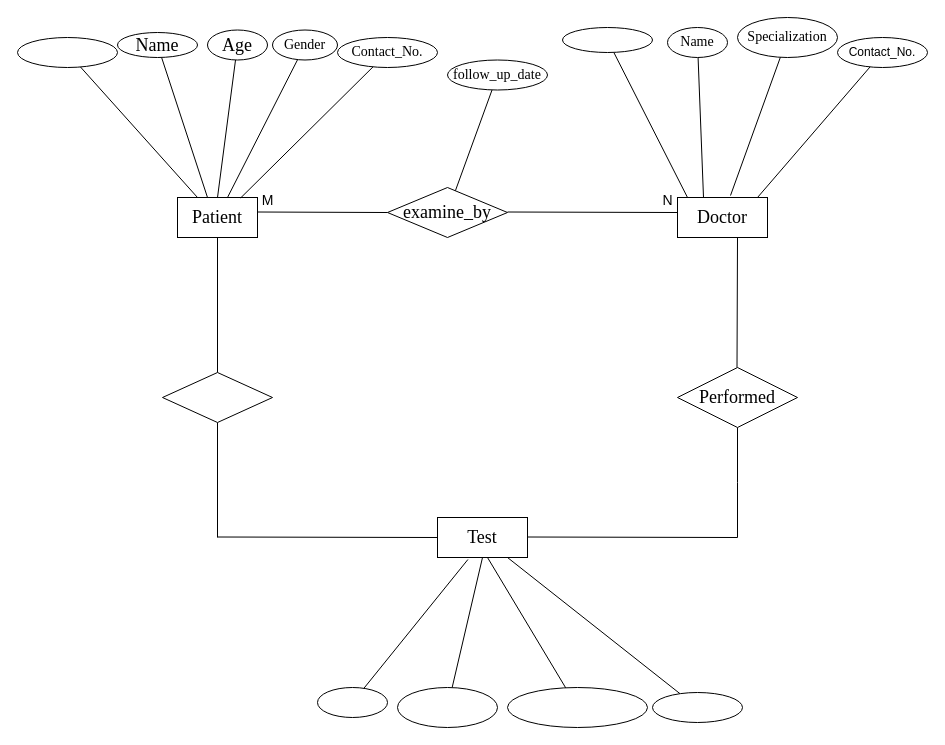
The diagram is 945 pixels wide and 745 high, and some of its shapes have lost their labels. The centre of each missing label's shape, as x and y in pixels:
"Doctor_ID" goes at (607,39).
"Patient_ID" goes at (67,52).
"Result" goes at (697,707).
"Test_date_conducted" goes at (577,707).
"Test_ID" goes at (352,702).
"Test_log" goes at (217,397).
"Test_Name" goes at (447,707).
